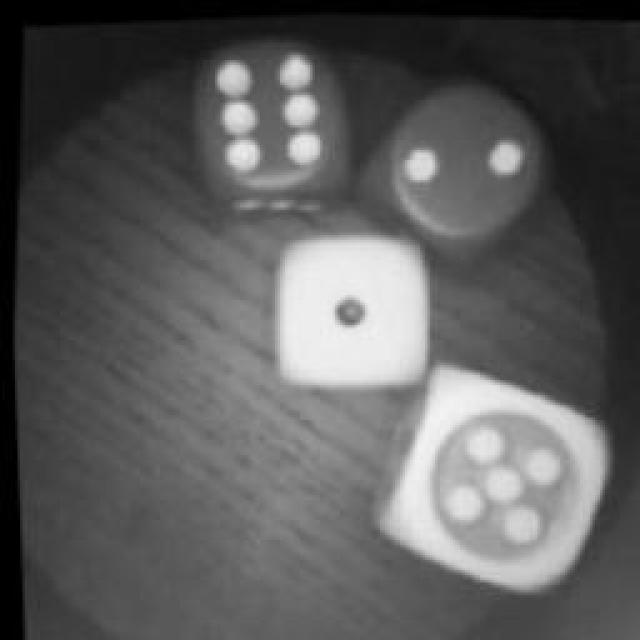dice_1: (255, 212, 440, 408)
dice_2: (344, 55, 558, 263)
dice_5: (359, 346, 626, 612)
dice_6: (163, 16, 365, 234)
